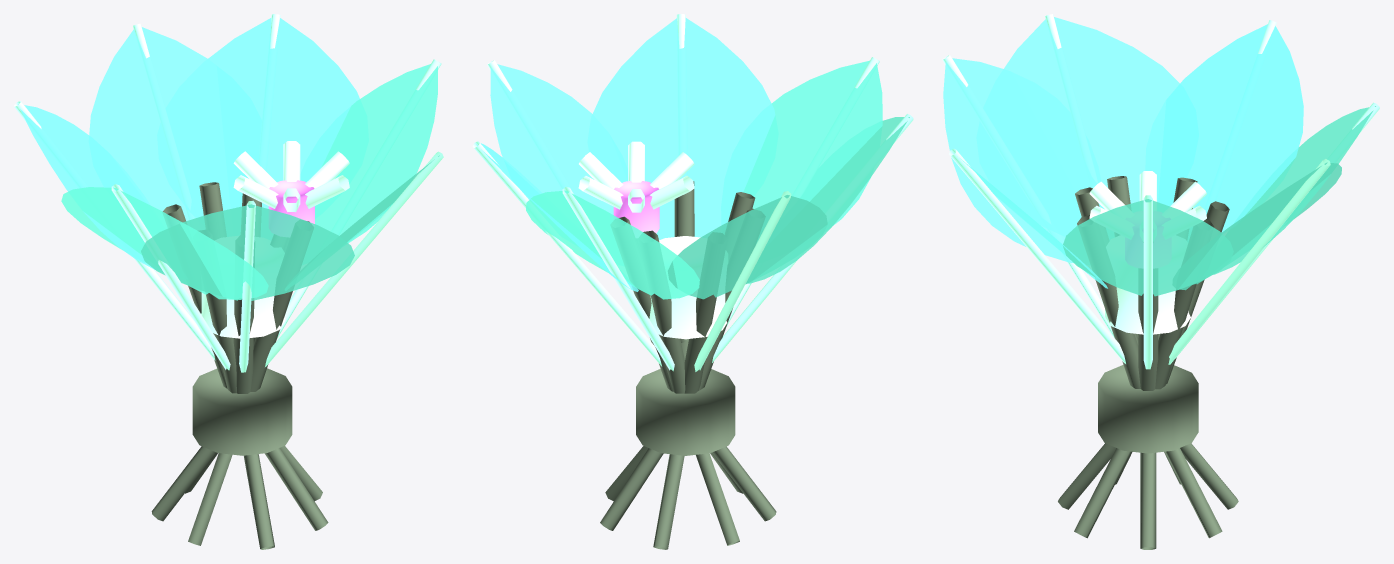
The model's file is aquaglow-growing.glb.
The picture shows the model from 3 angles, left to right: view 1: azimuth 30°, elevation 25°; view 2: azimuth 150°, elevation 25°; view 3: azimuth 270°, elevation 25°; orthographic projection.
Visible parts, largest first — view 1: shell-material-5-0, shell-material-7-0, shell-material-6-0, shell-material-8-0, shell-material-9-0; view 2: shell-material-5-0, shell-material-7-0, shell-material-6-0, shell-material-8-0, shell-material-9-0; view 3: shell-material-5-0, shell-material-7-0, shell-material-6-0, shell-material-8-0.
Part boxes in pixels (x1=…): shell-material-5-0: x1=17, y1=18, x2=439, y2=300; shell-material-7-0: x1=151, y1=182, x2=328, y2=549; shell-material-6-0: x1=14, y1=14, x2=443, y2=372; shell-material-8-0: x1=201, y1=141, x2=349, y2=338; shell-material-9-0: x1=268, y1=180, x2=314, y2=223; shell-material-5-0: x1=476, y1=18, x2=909, y2=299; shell-material-7-0: x1=600, y1=181, x2=776, y2=549; shell-material-6-0: x1=472, y1=14, x2=913, y2=371; shell-material-8-0: x1=578, y1=141, x2=727, y2=339; shell-material-9-0: x1=613, y1=181, x2=659, y2=233; shell-material-5-0: x1=943, y1=17, x2=1375, y2=296; shell-material-7-0: x1=1058, y1=176, x2=1238, y2=549; shell-material-6-0: x1=942, y1=14, x2=1379, y2=369; shell-material-8-0: x1=1089, y1=171, x2=1206, y2=334.
Bounding box in the file's own units: 1.23 × 1.27 × 1.22.
